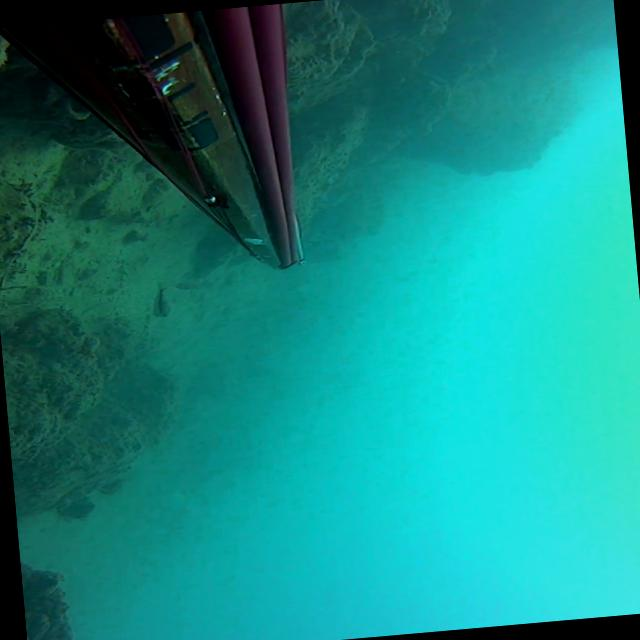Balon Baligi: (150, 280, 172, 318)
